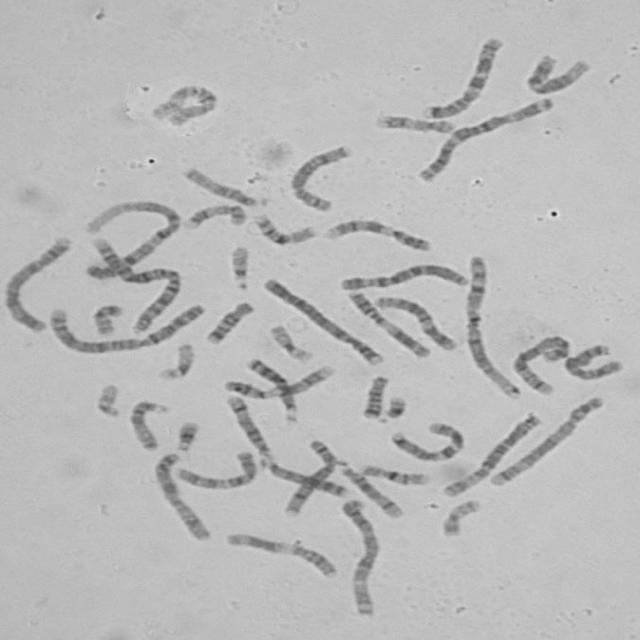A1: (461, 251, 525, 402), (79, 197, 183, 281)
A2: (86, 235, 184, 336), (45, 299, 212, 355)
A3: (412, 94, 557, 184), (334, 494, 382, 618)
B4: (259, 274, 386, 367), (0, 232, 74, 334)
B5: (485, 392, 608, 489), (509, 331, 573, 397)
C10: (171, 447, 261, 491), (146, 81, 220, 128)
C11: (343, 287, 436, 359), (220, 529, 342, 580)
C12: (371, 292, 462, 352), (522, 51, 592, 96)
C6: (440, 412, 543, 499), (333, 259, 471, 292)
C7: (417, 32, 505, 121), (387, 419, 467, 463)
C8: (285, 140, 357, 213), (278, 437, 338, 517)
C9: (221, 360, 340, 400), (321, 215, 435, 252)
D13: (240, 354, 302, 424), (258, 457, 352, 499)
D14: (336, 462, 406, 520), (222, 392, 274, 459)
D15: (179, 164, 269, 208), (125, 397, 172, 453)
E16: (249, 209, 319, 247), (354, 460, 431, 488)
E17: (370, 111, 459, 135), (179, 201, 249, 231)
E18: (202, 298, 256, 346), (358, 371, 391, 421)
F19: (264, 321, 316, 363), (154, 339, 197, 382)
F20: (438, 496, 484, 538), (88, 300, 126, 337)
G21: (171, 416, 202, 452), (378, 392, 409, 423)
G22: (225, 242, 253, 292), (91, 379, 124, 419)
X: (148, 450, 215, 543), (560, 339, 627, 383)
